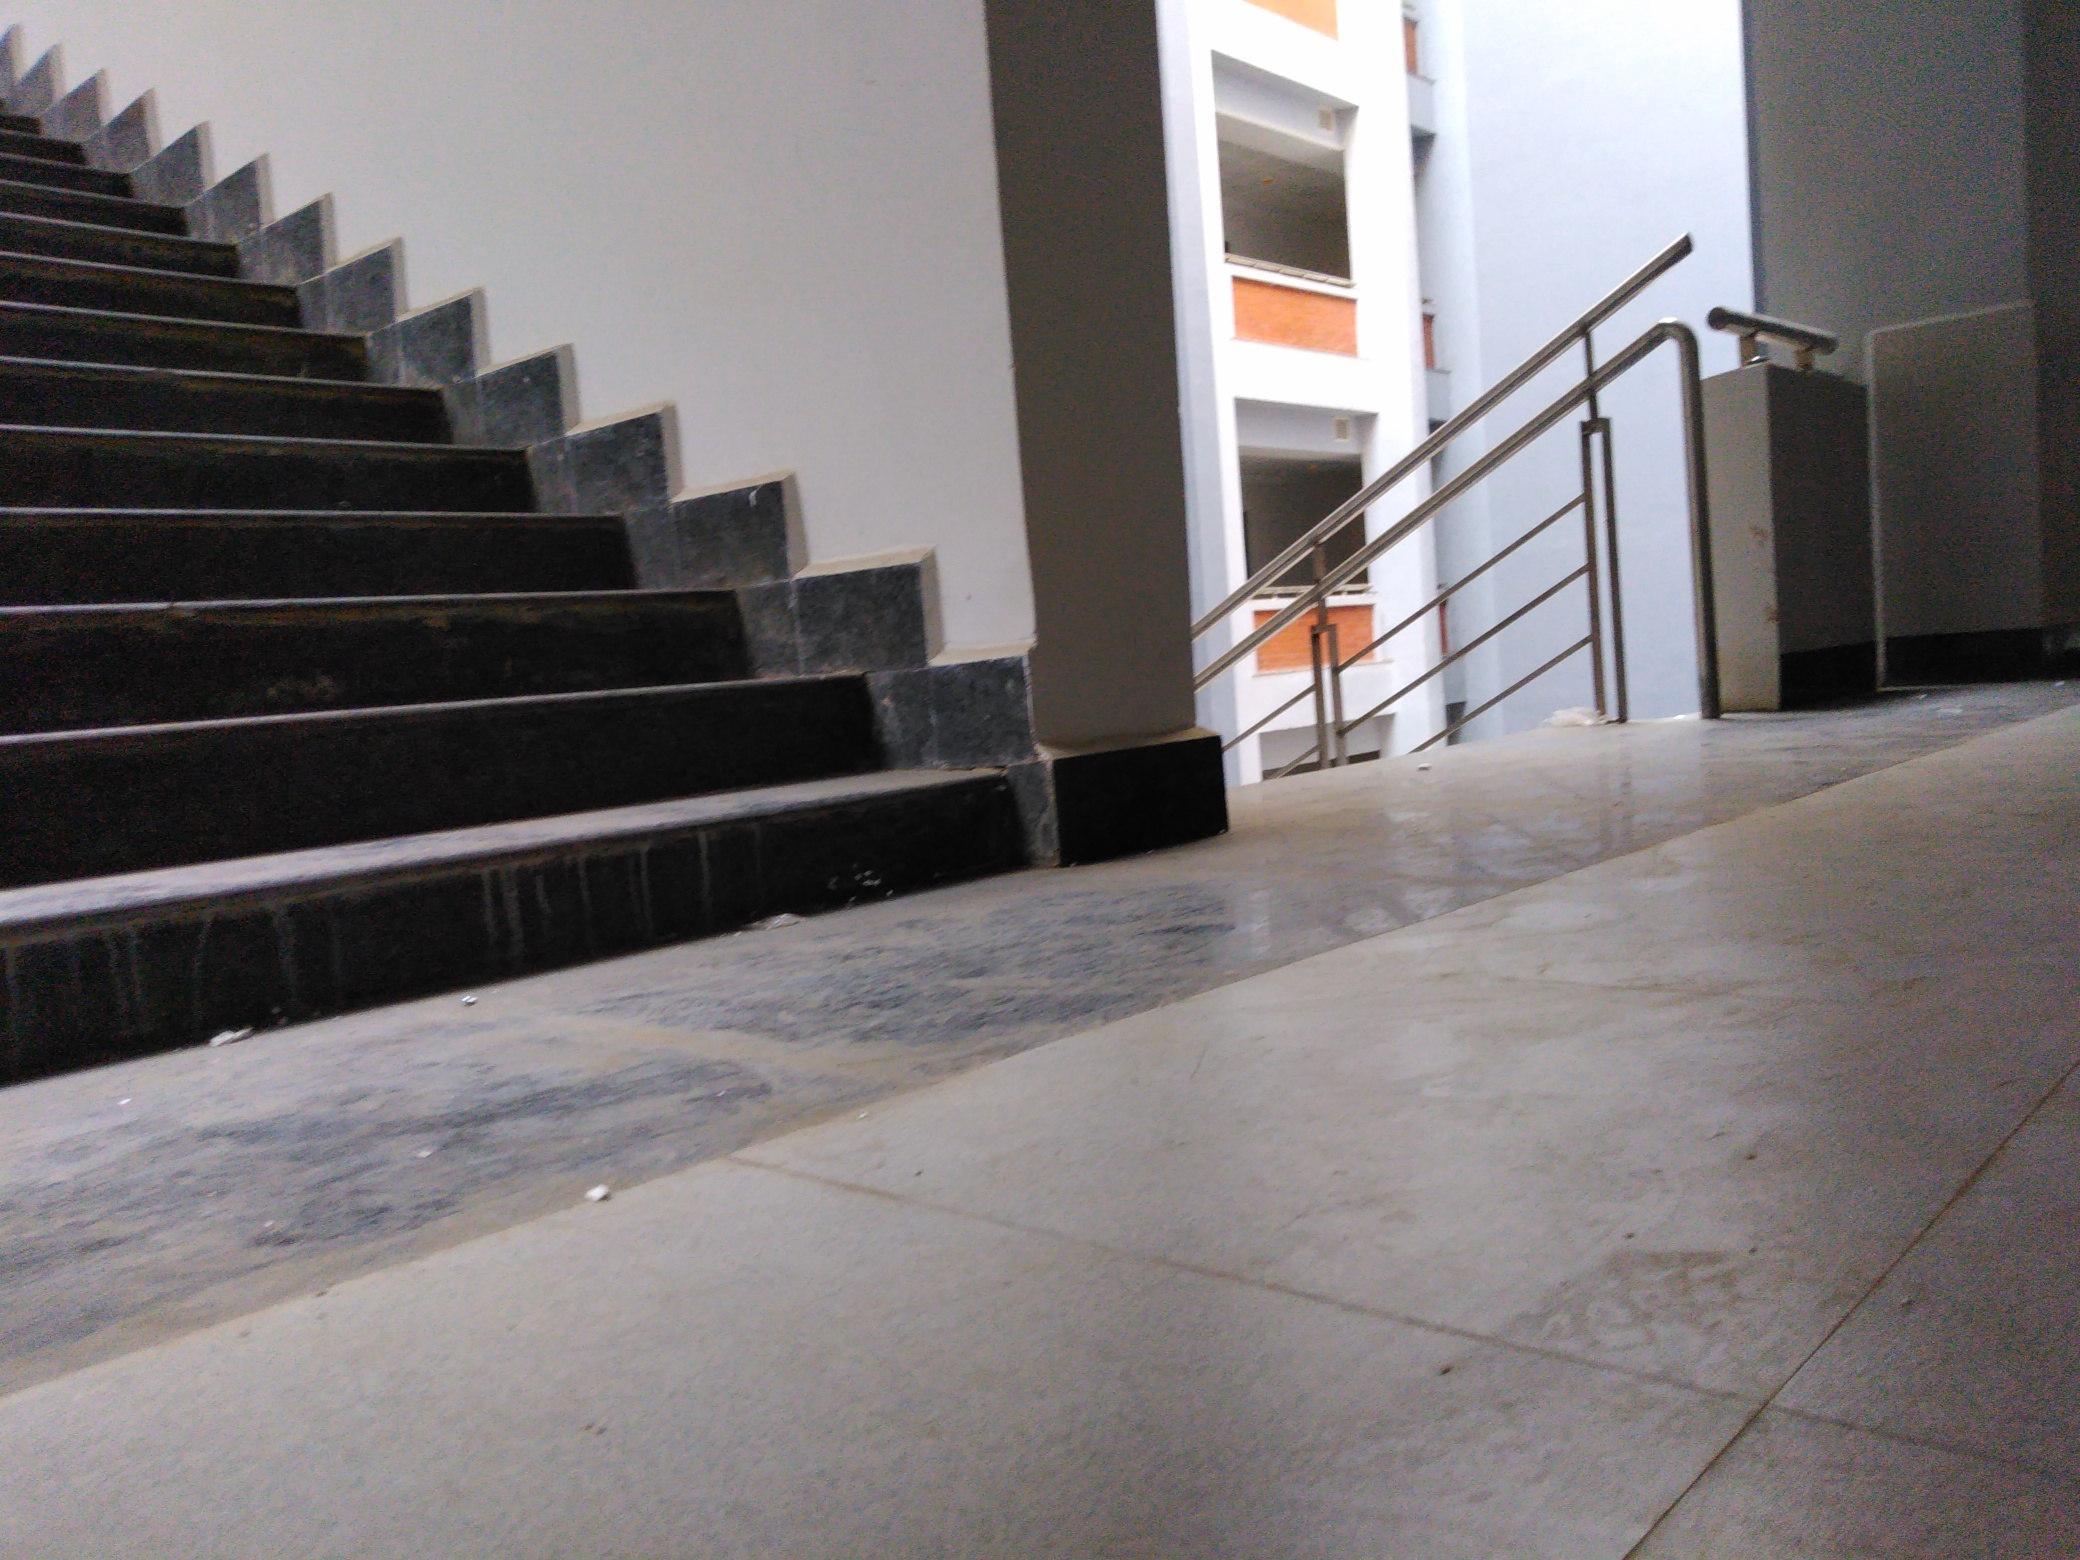stairs_up: (7, 205, 956, 916)
